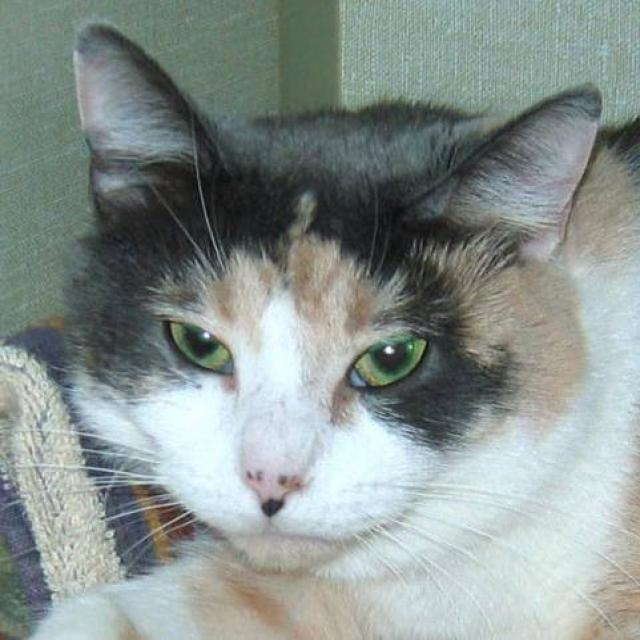cat: (0, 19, 639, 639)
